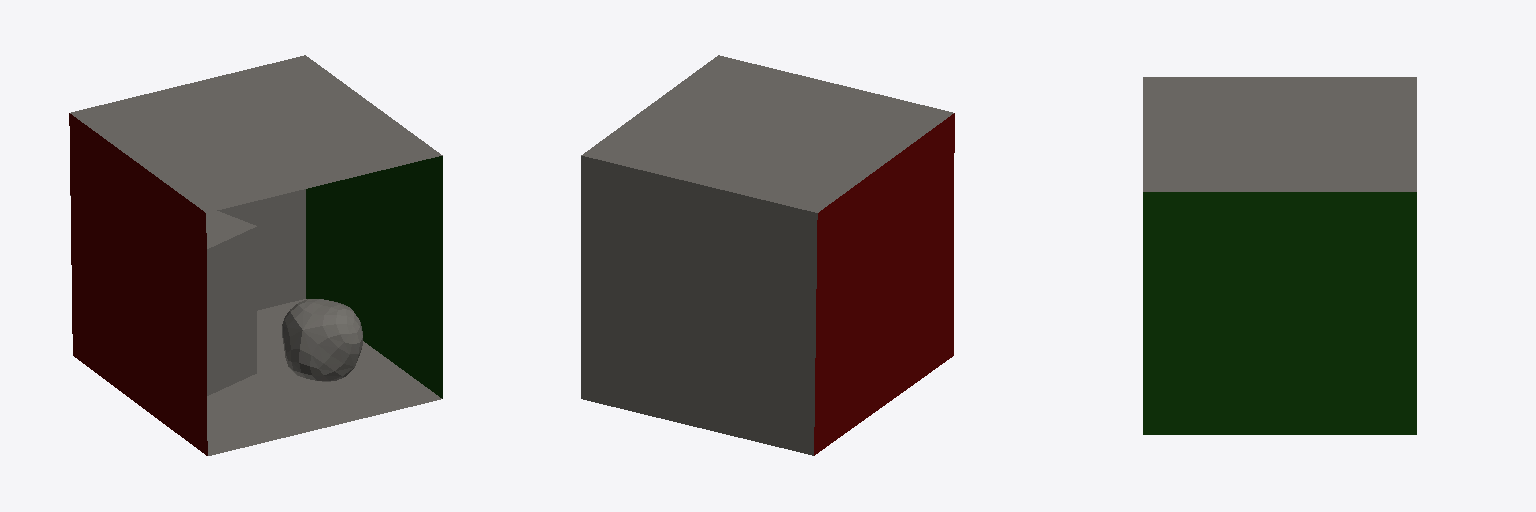
File: cornell3.obj
3 renders of one model, left to right at view 1: azimuth 30°, elevation 25°; view 2: azimuth 150°, elevation 25°; view 3: azimuth 270°, elevation 25°, orthographic.
Visible parts, largest first — view 1: leftWall, ceiling, rightWall, floor, shortBox, backWall, leftWall.001; view 2: backWall, leftWall, ceiling; view 3: rightWall, ceiling.
Part boxes in pixels (left/top/right/bottom): leftWall: left=69, top=113, right=207, bottom=455; ceiling: left=70, top=55, right=442, bottom=212; rightWall: left=306, top=156, right=442, bottom=398; floor: left=207, top=299, right=441, bottom=455; shortBox: left=206, top=211, right=256, bottom=395; backWall: left=70, top=189, right=305, bottom=310; leftWall.001: left=282, top=299, right=362, bottom=381; backWall: left=581, top=156, right=817, bottom=455; leftWall: left=814, top=113, right=954, bottom=455; ceiling: left=581, top=55, right=953, bottom=212; rightWall: left=1143, top=192, right=1416, bottom=434; ceiling: left=1143, top=77, right=1416, bottom=191.
Bounding box in the file's own units: 101 × 99.5 × 102.